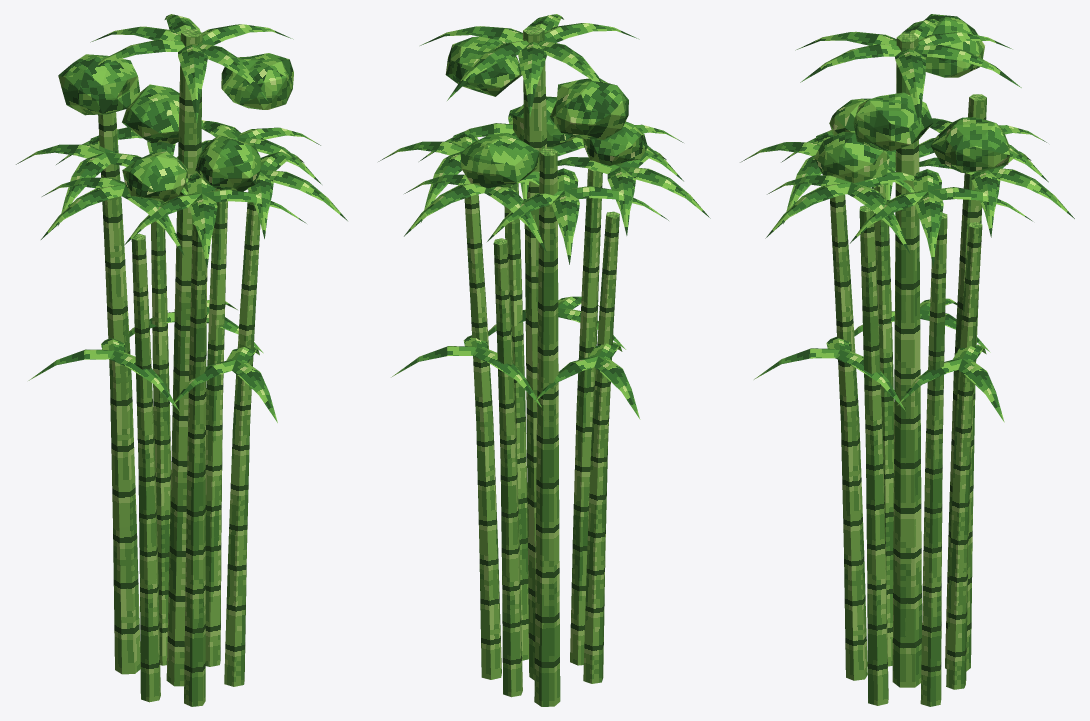
Rendered from bamboo.glb.
3 views of the same model, side by side, from view 1: azimuth 30°, elevation 25°; view 2: azimuth 150°, elevation 25°; view 3: azimuth 270°, elevation 25° (orthographic).
Parts seen in each view (by area): view 1: bamboo; view 2: bamboo; view 3: bamboo.
Part boxes in pixels (x1,y1,x2,y2): bamboo: (16, 14, 347, 706); bamboo: (378, 14, 710, 706); bamboo: (740, 14, 1074, 706).
Size of the model in its own units: 1.9 by 3.8 by 1.78.
2 materials, 2 textured.
